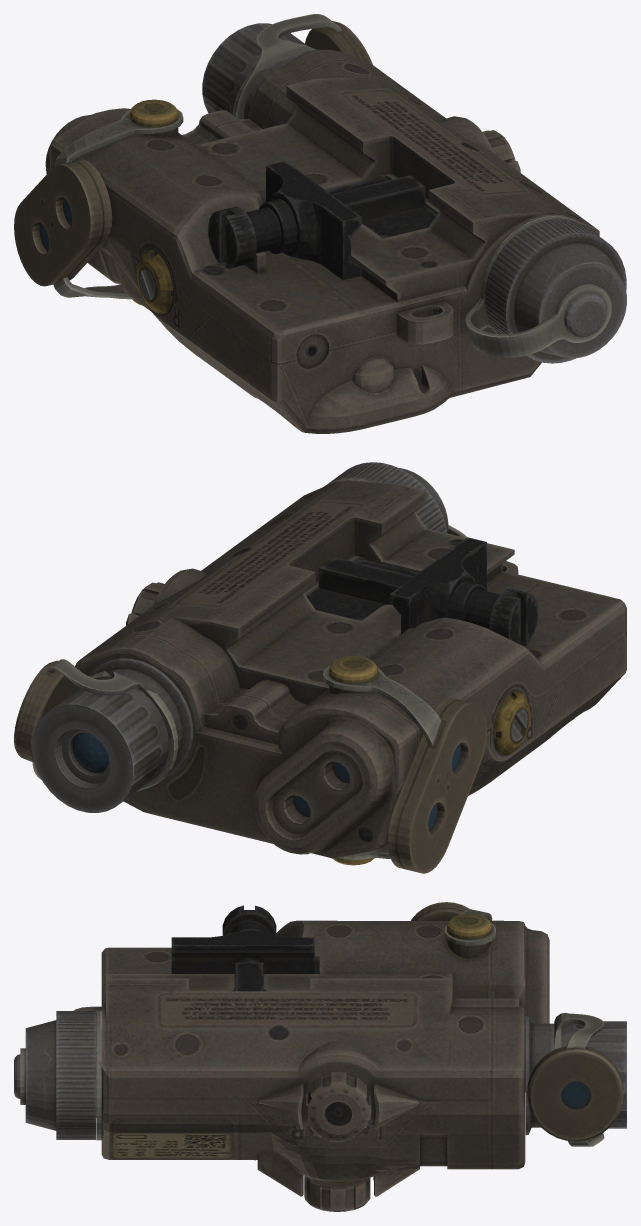
3 renders of one model, top to bottom at view 1: azimuth 30°, elevation 25°; view 2: azimuth 150°, elevation 25°; view 3: azimuth 270°, elevation 25°, orthographic. The views are drawn at different scales.
Parts seen in each view (by area): view 1: TW_5c06595c0db834001a66af6c_PZ_Import; view 2: TW_5c06595c0db834001a66af6c_PZ_Import; view 3: TW_5c06595c0db834001a66af6c_PZ_Import.
Part boxes in pixels (x1,y1,x2,y2): TW_5c06595c0db834001a66af6c_PZ_Import: [14, 14, 626, 433]; TW_5c06595c0db834001a66af6c_PZ_Import: [14, 462, 626, 873]; TW_5c06595c0db834001a66af6c_PZ_Import: [14, 902, 626, 1211].
Size of the model in its own units: 0.0464 by 0.0706 by 0.0246.
Materials: 1 (1 with a texture image).
